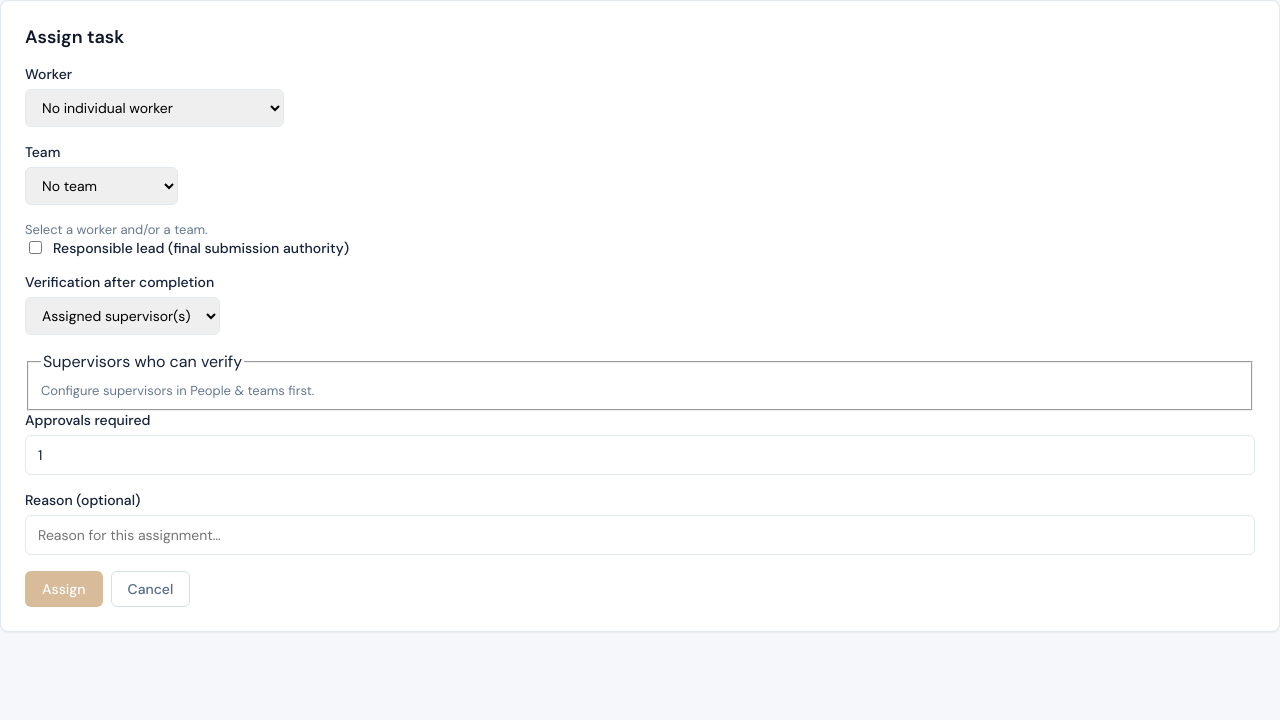
Scenario: AssignmentDrawer › disables submit until a worker or team is chosen, and hides inactive teams
Expected: the button "Assign" is disabled, [25,571,102,607]
Select "Auto-verify" in the dropdown labelled "Verification after completion" at (122,316), box [25,297,220,335]
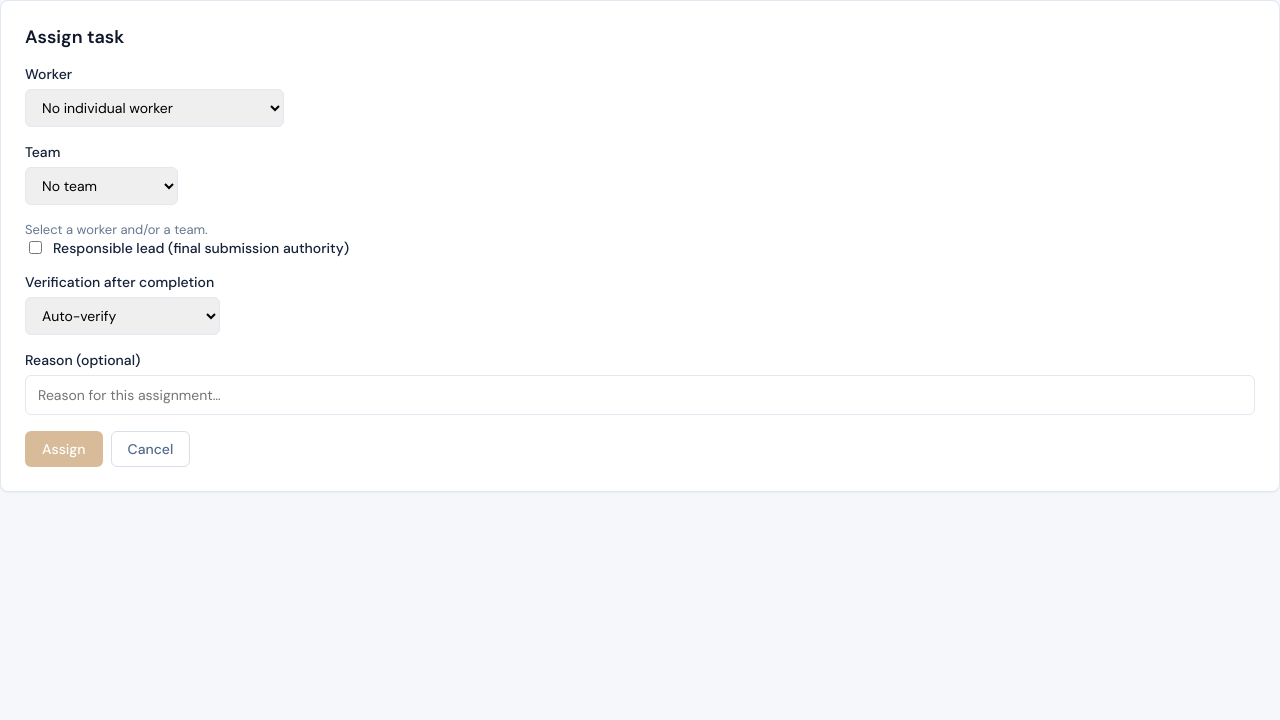
Select "Field Operations" in the dropdown labelled "Team" at (102,186), box [25,167,178,205]
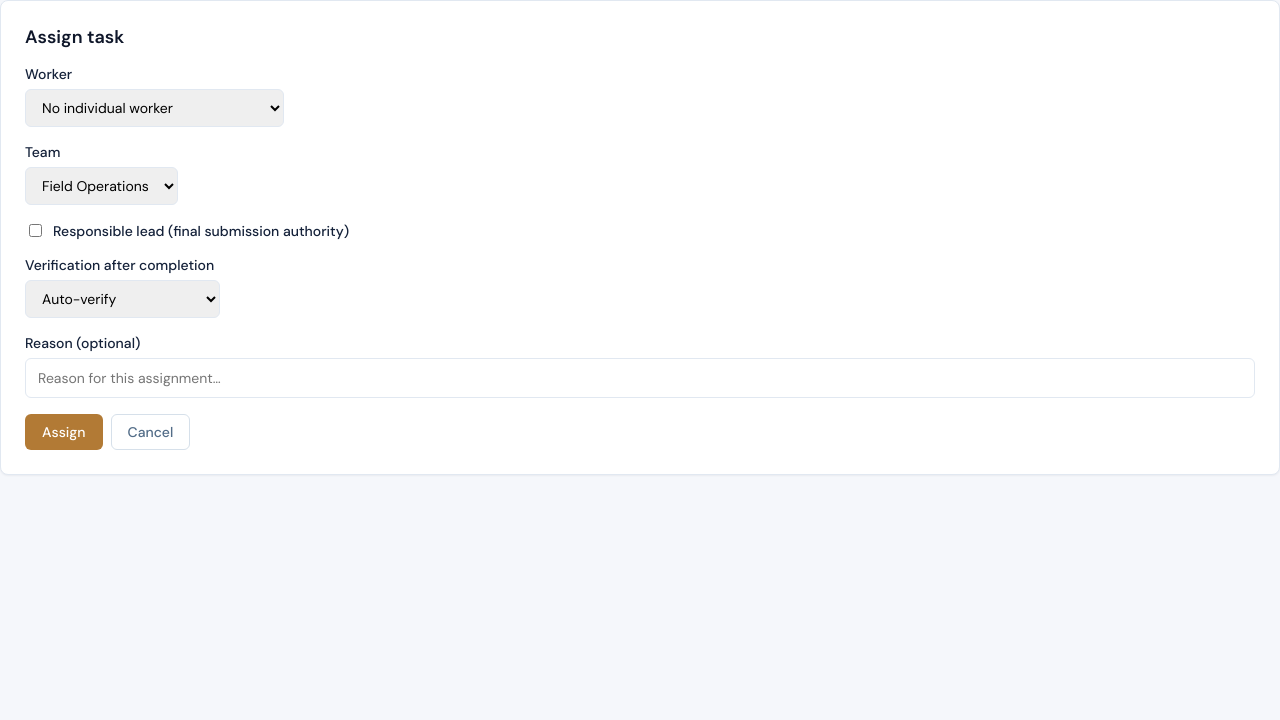
Now the button "Assign" is enabled, box [25,414,102,450]
